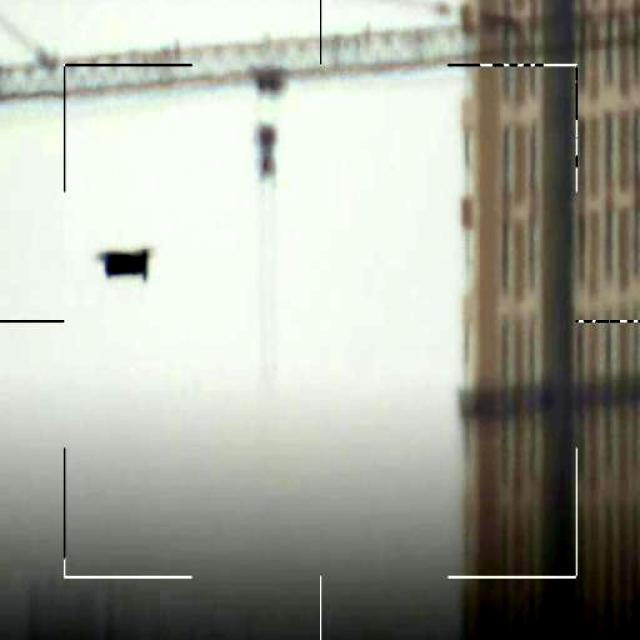bird: (102, 246, 152, 280)
